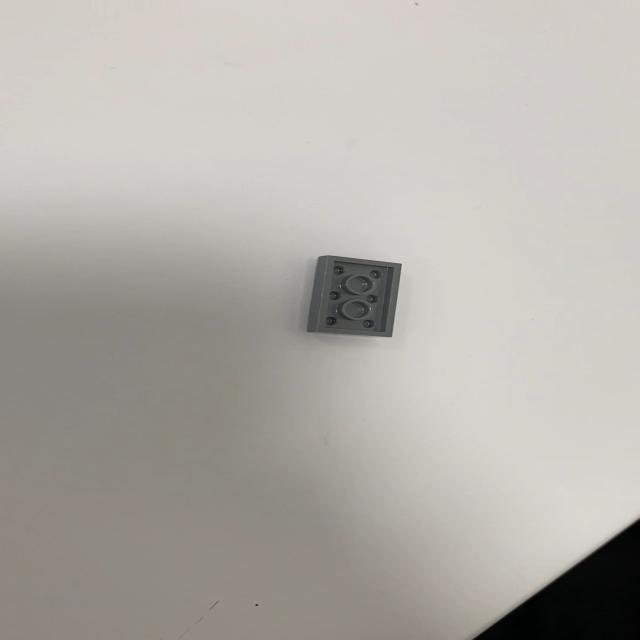C3x2x0: (304, 254, 402, 338)
